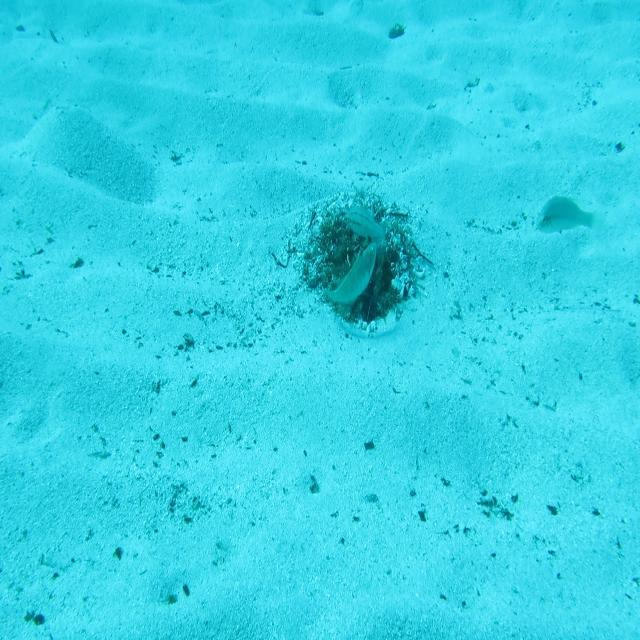DAN_CIRC: (323, 240, 379, 308)
female: (340, 201, 390, 246)
nest: (307, 184, 426, 324)
other_fish: (534, 188, 608, 240)
